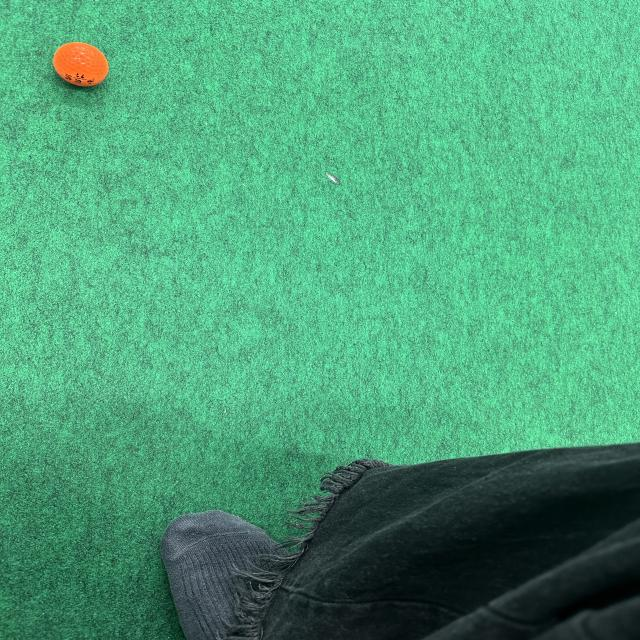ball: (51, 41, 110, 88)
